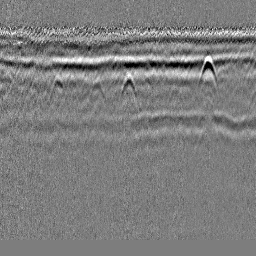cavity: (118, 70, 139, 109)
